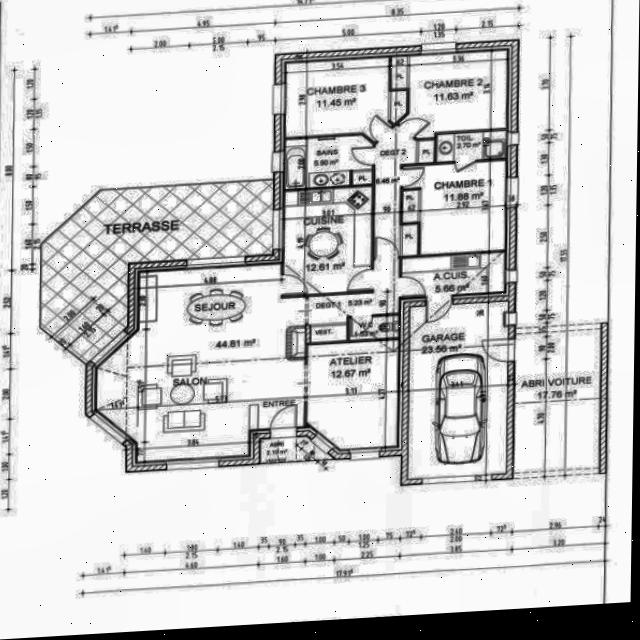room: (89, 260, 316, 464), (294, 119, 461, 368), (409, 301, 508, 480), (389, 50, 512, 140), (284, 57, 409, 143), (399, 160, 511, 255), (306, 338, 399, 450), (284, 185, 372, 294), (282, 134, 376, 189), (399, 252, 506, 297), (436, 131, 508, 162), (259, 435, 335, 463), (348, 316, 400, 340), (400, 224, 418, 256)
